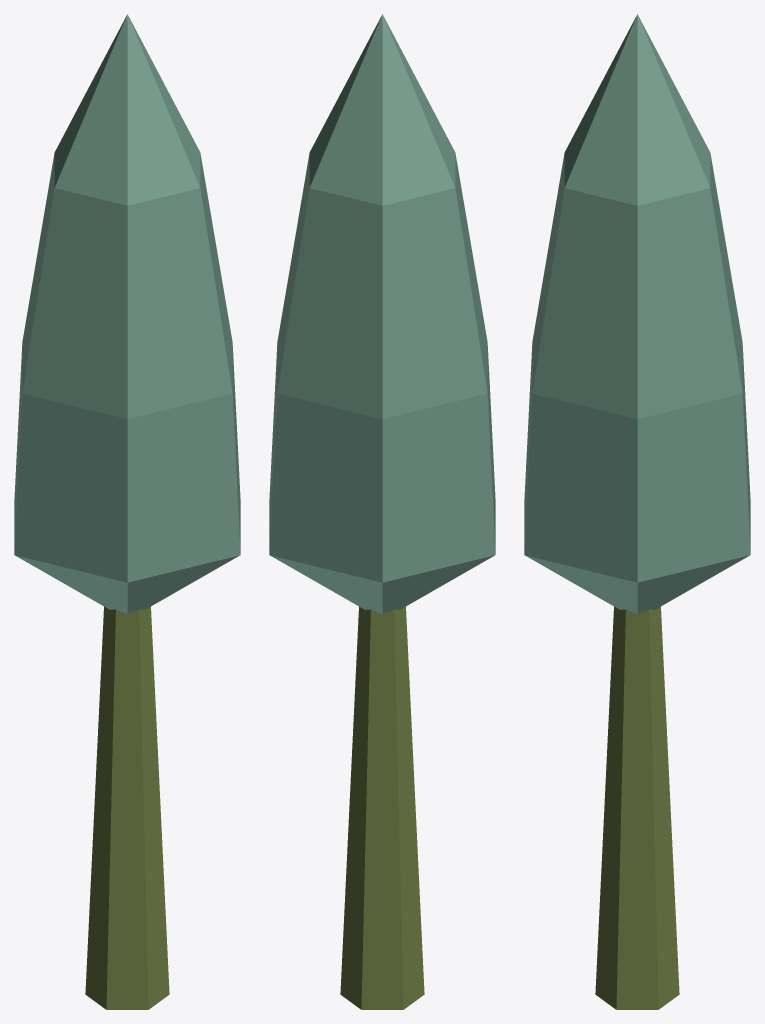
File: Low_Poly_Tree_Grave4.fbx
The picture shows the model from 3 angles, left to right: view 1: azimuth 30°, elevation 25°; view 2: azimuth 150°, elevation 25°; view 3: azimuth 270°, elevation 25°; orthographic projection.
Visible parts, largest first — view 1: Low_Poly_Tree_004; view 2: Low_Poly_Tree_004; view 3: Low_Poly_Tree_004.
Part boxes in pixels (left/top/right/bottom): Low_Poly_Tree_004: left=14, top=14, right=240, bottom=1009; Low_Poly_Tree_004: left=269, top=14, right=495, bottom=1009; Low_Poly_Tree_004: left=524, top=14, right=750, bottom=1009.
Bounding box in the file's own units: 213 × 882 × 184.
